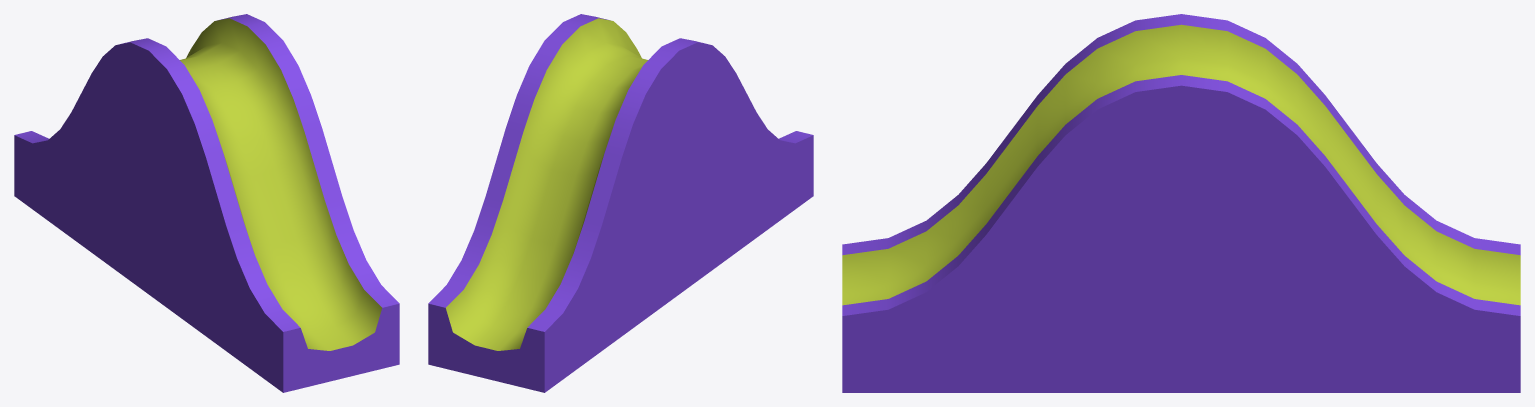
File: bump_solid_D-col.dae
3 views of the same model, side by side, from view 1: azimuth 30°, elevation 25°; view 2: azimuth 150°, elevation 25°; view 3: azimuth 270°, elevation 25° (orthographic). The views are drawn at different scales.
Parts seen in each view (by area): view 1: bump_solid_D-col; view 2: bump_solid_D-col; view 3: bump_solid_D-col.
Boxes of the visible parts, left/top/right/bottom form: bump_solid_D-col: left=14, top=14, right=399, bottom=392; bump_solid_D-col: left=428, top=14, right=813, bottom=392; bump_solid_D-col: left=842, top=14, right=1520, bottom=392.
Size of the model in its own units: 1 by 4 by 2.
